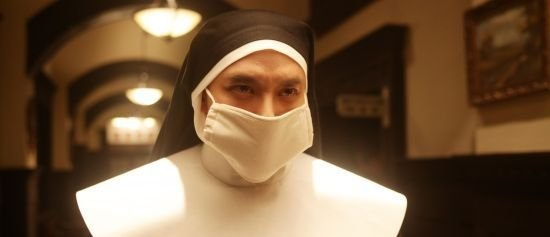face_mask: (213, 53, 308, 171)
